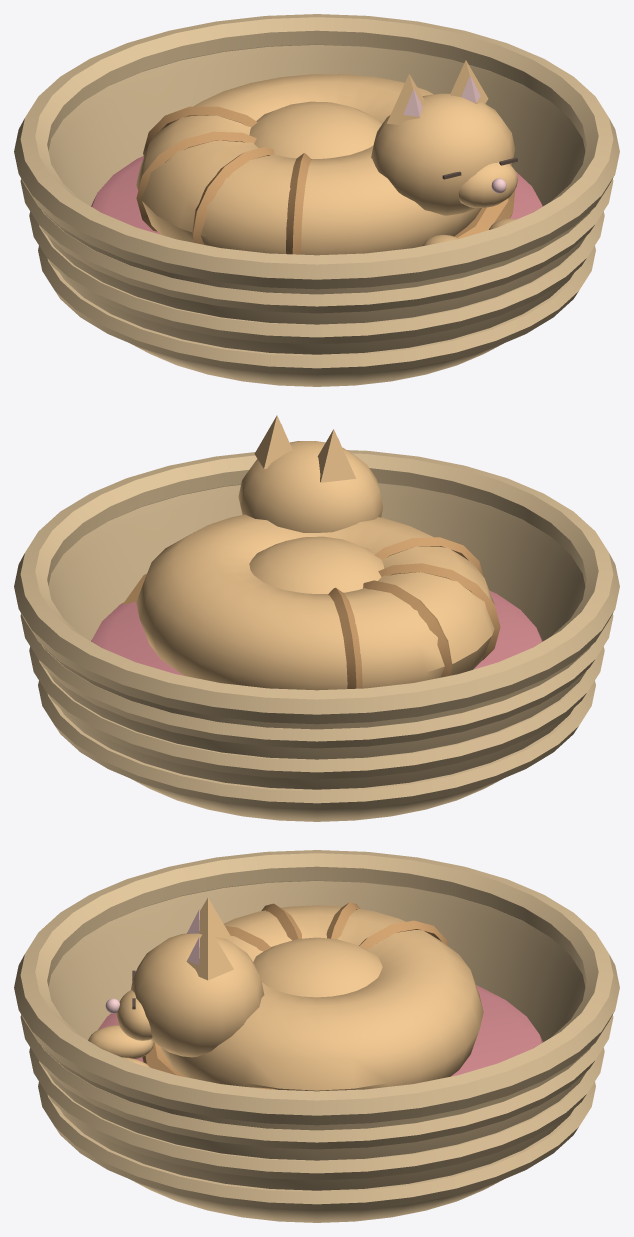
The model's file is cat_basket.glb.
3 renders of one model, top to bottom at view 1: azimuth 30°, elevation 25°; view 2: azimuth 150°, elevation 25°; view 3: azimuth 270°, elevation 25°, orthographic.
Parts seen in each view (by area): view 1: cat_basket; view 2: cat_basket; view 3: cat_basket.
Part boxes in pixels (x1,y1,x2,y2): cat_basket: (14, 14, 619, 386); cat_basket: (14, 415, 619, 821); cat_basket: (14, 850, 619, 1222).
Bounding box in the file's own units: 0.556 × 0.255 × 0.556.
